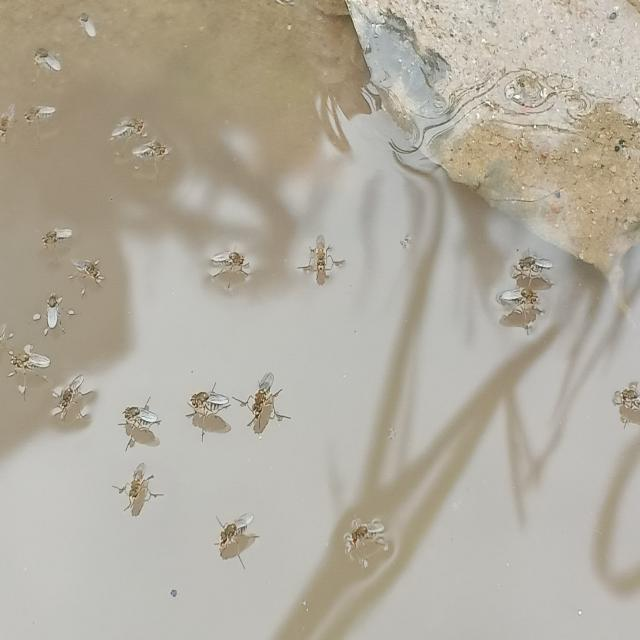Breeding Place: (0, 1, 640, 640)
Mosquito: (483, 266, 576, 332), (293, 222, 361, 304), (84, 83, 154, 161), (190, 233, 265, 301), (329, 501, 402, 568), (31, 198, 87, 284), (235, 364, 297, 438), (120, 130, 186, 197), (196, 500, 262, 564), (501, 227, 560, 296), (106, 454, 161, 522), (112, 383, 164, 454), (63, 244, 128, 300), (3, 339, 53, 407), (177, 380, 235, 438), (30, 278, 76, 351), (56, 370, 90, 430)
